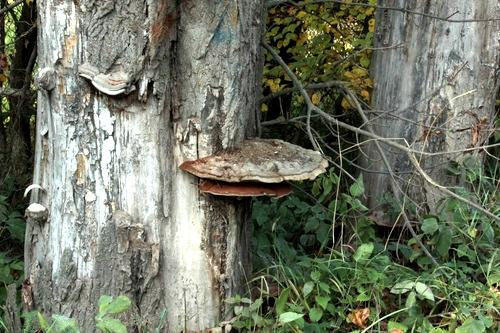Ganoderma - Fruit Body: (178, 136, 331, 202)
